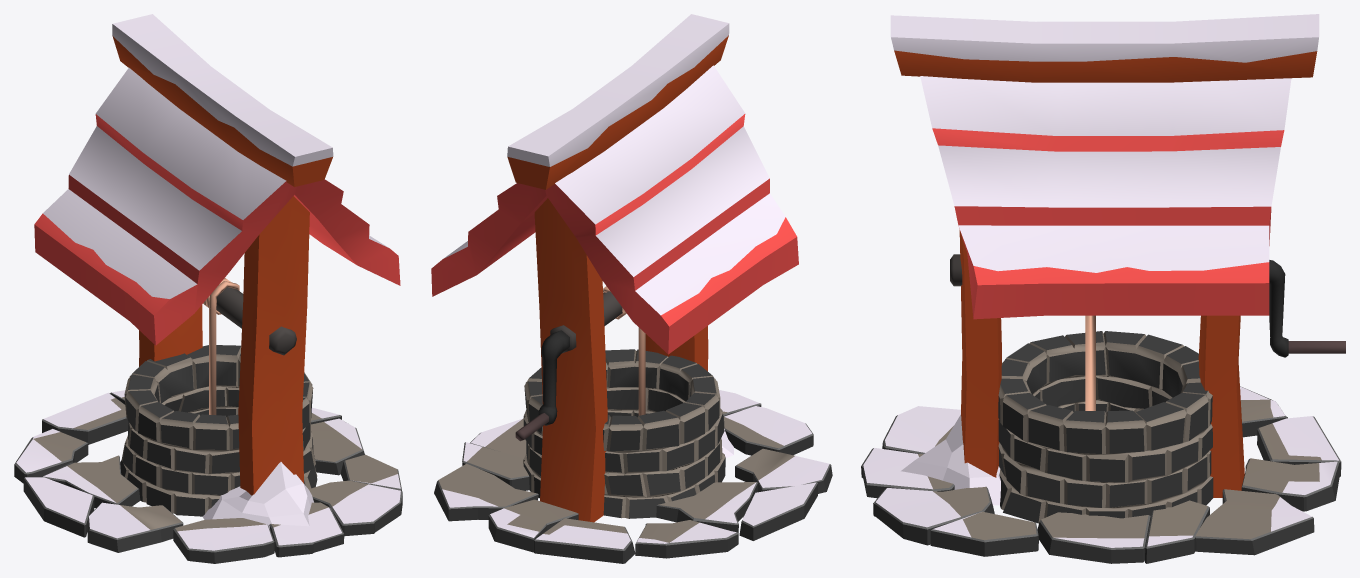
The model's file is waterhole1.glb.
3 renders of one model, left to right at view 1: azimuth 30°, elevation 25°; view 2: azimuth 150°, elevation 25°; view 3: azimuth 270°, elevation 25°, orthographic. The views are drawn at different scales.
Visible parts, largest first — view 1: Waterhole1; view 2: Waterhole1; view 3: Waterhole1.
Boxes of the visible parts, x1=… form: Waterhole1: x1=14, y1=14, x2=402, y2=563; Waterhole1: x1=431, y1=14, x2=832, y2=563; Waterhole1: x1=861, y1=14, x2=1345, y2=563.
Size of what is drawn, in the model's own units: 1.16 by 1.36 by 1.3.
1 material, 1 textured.
